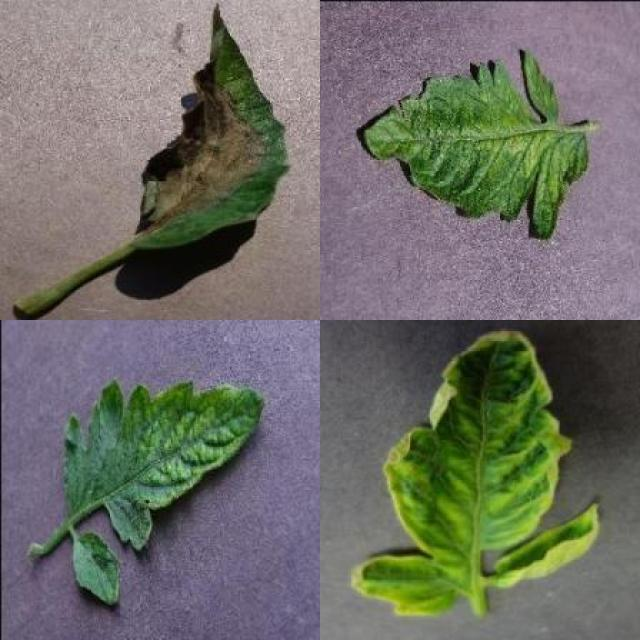Late Blight: (125, 0, 288, 249)
Mosaic Virus: (360, 46, 587, 241), (60, 380, 266, 550), (70, 530, 123, 607)
Yellow Leaf Curl Virus: (352, 330, 598, 613)
